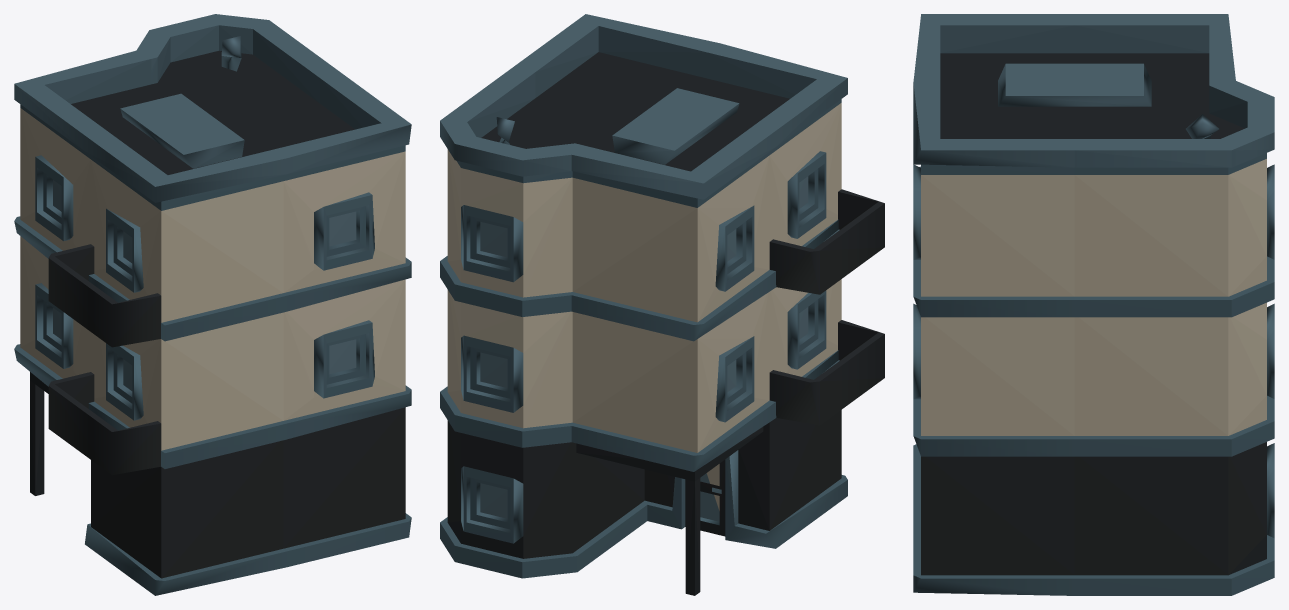
Rendered from building-b.mid.8367ab5c.glb.
The picture shows the model from 3 angles, left to right: view 1: azimuth 30°, elevation 25°; view 2: azimuth 150°, elevation 25°; view 3: azimuth 270°, elevation 25°; orthographic projection. The views are drawn at different scales.
Parts seen in each view (by area): view 1: building-b; view 2: building-b; view 3: building-b.
Boxes of the visible parts, x1=… form: building-b: x1=14, y1=14, x2=411, y2=595; building-b: x1=440, y1=14, x2=884, y2=595; building-b: x1=913, y1=14, x2=1274, y2=595.
Size of the model in its own units: 11.64 by 15.52 by 11.28.
